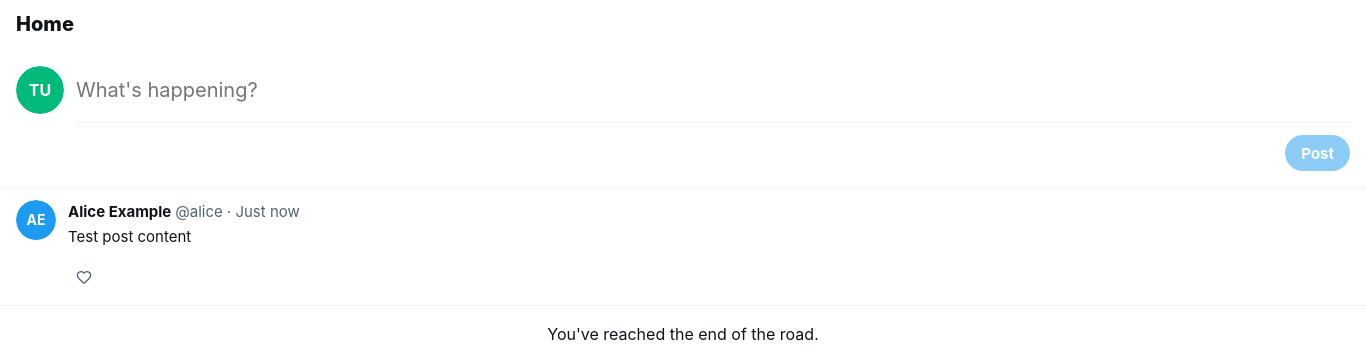
Scenario: Direct post and likes UI › likes a timeline post with optimistic UI and persisted server state
What coordinates should you click on to do the following:
click the button with test id "post-like-button-7"
I would click on:
 (86, 276)
Its box is [68, 260, 104, 292].
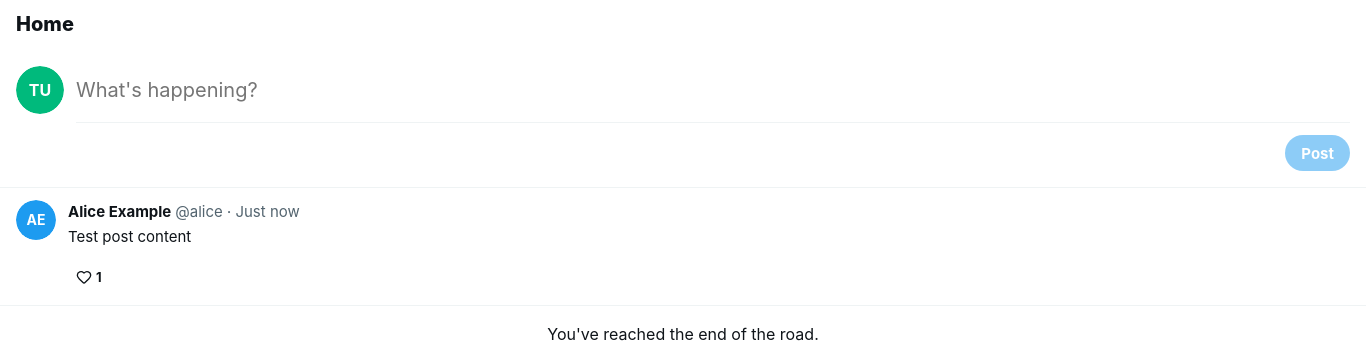
Check: the button named "Unlike" is shown, box [68, 260, 110, 292]
Check: the text with test id "post-like-count-7" reads "1", box [96, 268, 102, 284]
